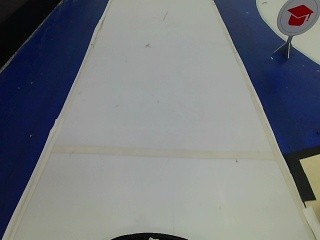school: (279, 1, 317, 39)
